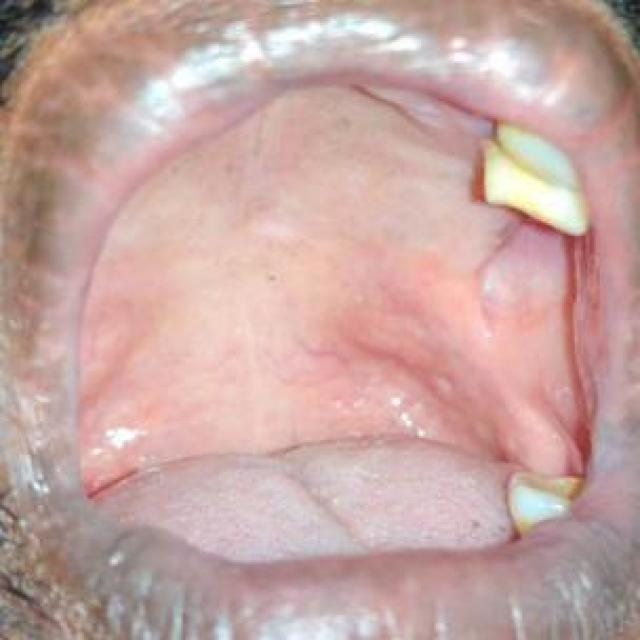processing_area: (48, 59, 596, 575)
